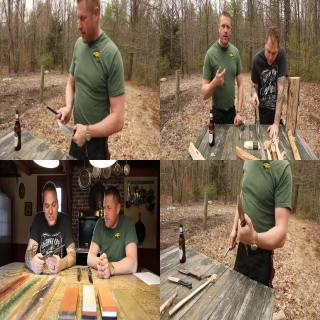knife: (34, 239, 68, 267), (55, 116, 84, 148), (235, 191, 249, 243), (252, 96, 262, 140)
